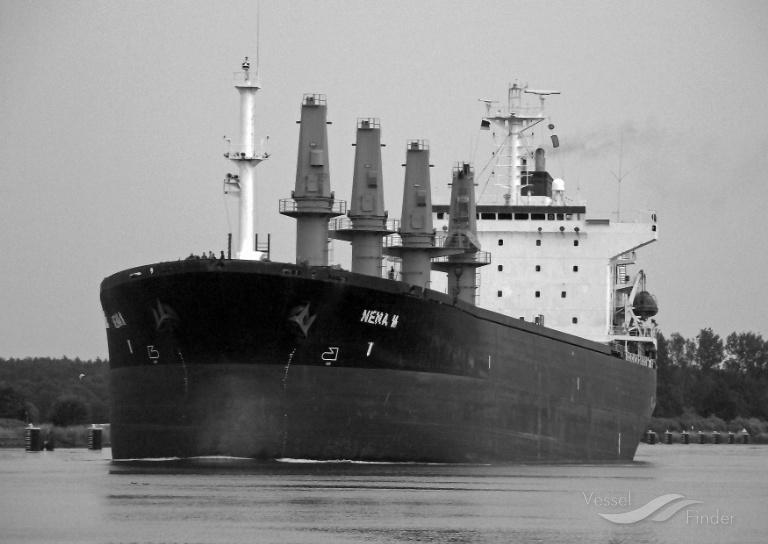OCR: (350, 304, 401, 332), (102, 308, 130, 328)
